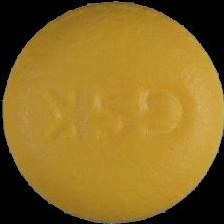63629-4615: (0, 0, 224, 224)
